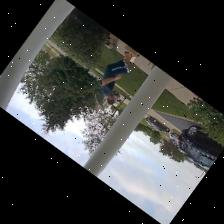person: (101, 50, 134, 103)
